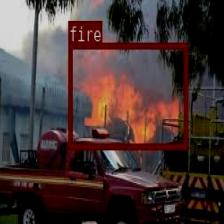fire: (68, 42, 186, 148)
